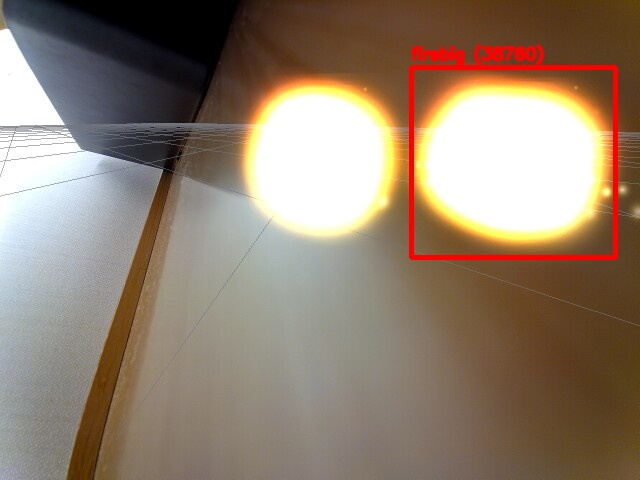firebig: (411, 67, 615, 257)
